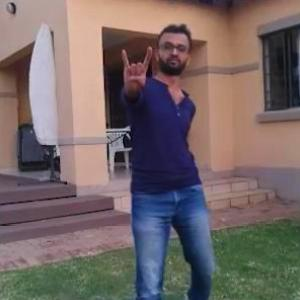takeoff-hand: (116, 39, 157, 102)
